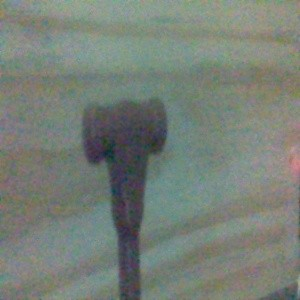palu: (81, 96, 168, 300)
